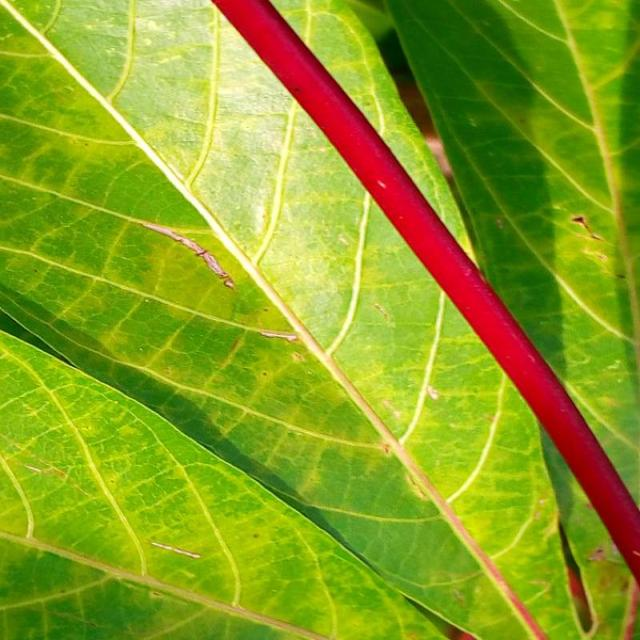cassava leaf: (1, 0, 637, 638), (385, 0, 638, 591)
